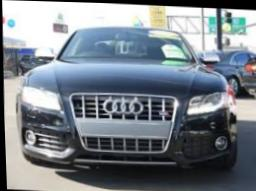Bumper: (171, 105, 229, 142), (11, 109, 67, 129)
